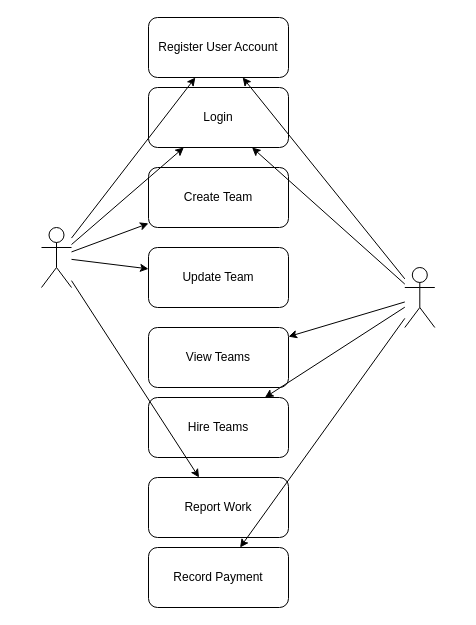
Image size: 476x625. Some labels were removed from this diagram. Each missing label, with the box of its shape:
user from org1: (40, 226, 72, 288)
user from org2: (404, 266, 435, 328)
